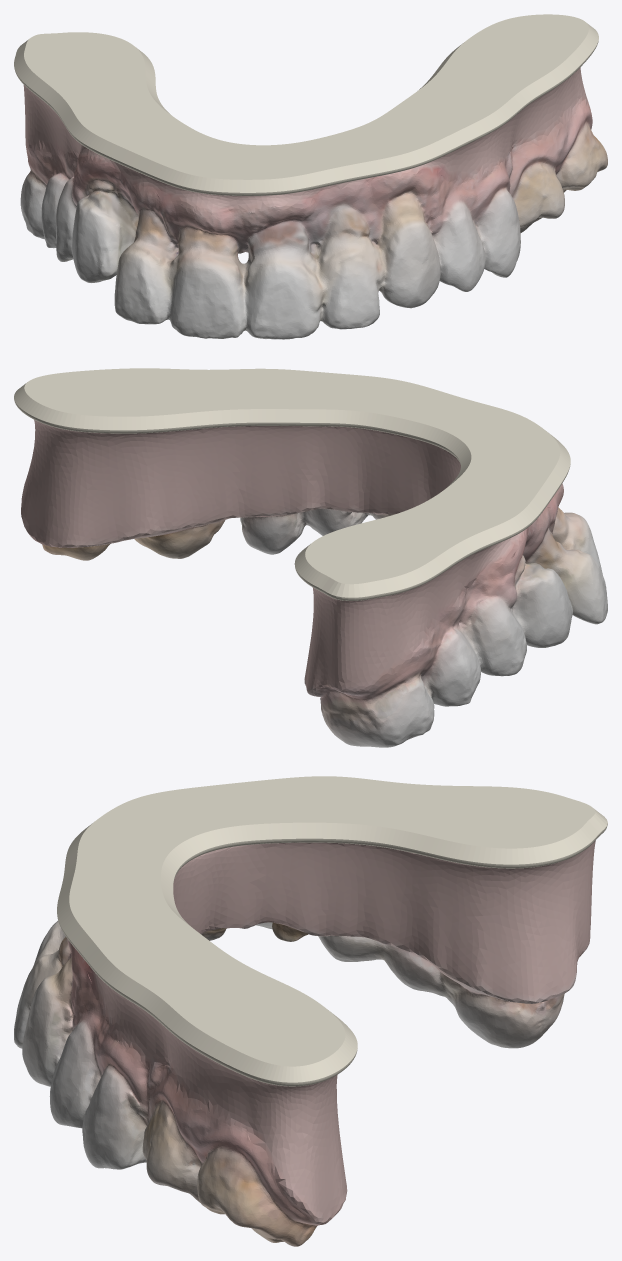
File: upper-10.glb
The picture shows the model from 3 angles, top to bottom: view 1: azimuth 30°, elevation 25°; view 2: azimuth 150°, elevation 25°; view 3: azimuth 270°, elevation 25°; orthographic projection. The views are drawn at different scales.
Parts seen in each view (by area): view 1: 10.ply; view 2: 10.ply; view 3: 10.ply.
Boxes of the visible parts, left/top/right/bottom form: 10.ply: left=14, top=14, right=607, bottom=339; 10.ply: left=14, top=368, right=607, bottom=747; 10.ply: left=14, top=776, right=607, bottom=1246.
Bounding box in the file's own units: 60.3 × 19.96 × 48.41.
